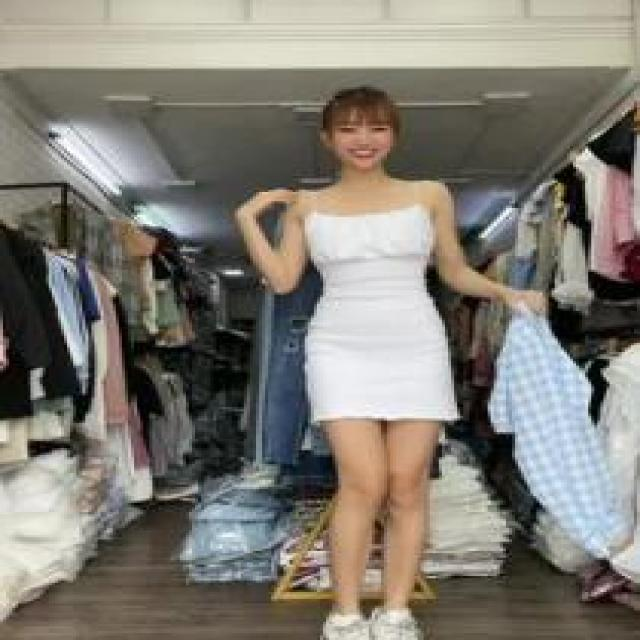clothes: (292, 174, 460, 420)
